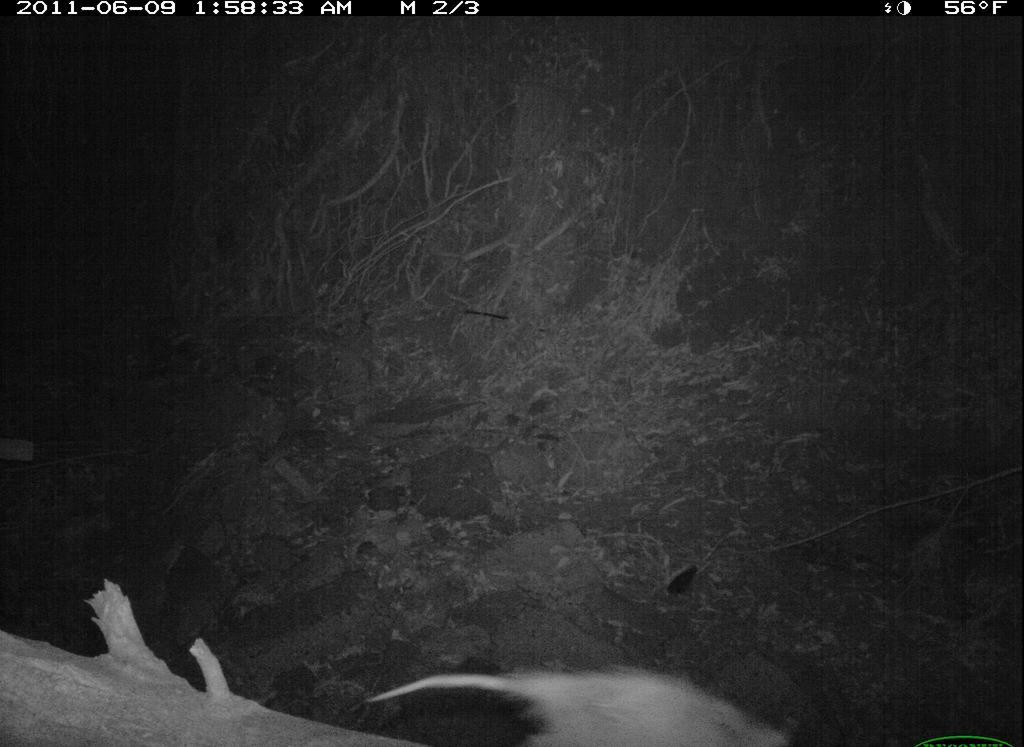opossum: (354, 653, 801, 747)
